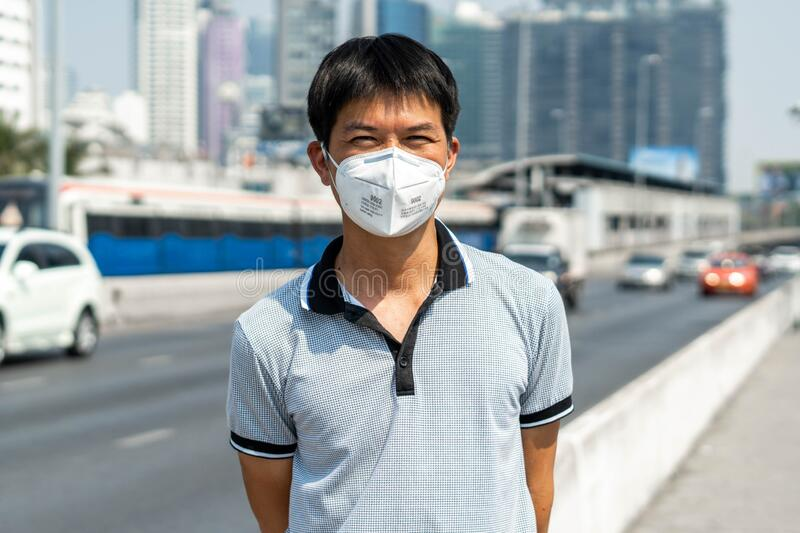n95: (325, 145, 449, 240)
